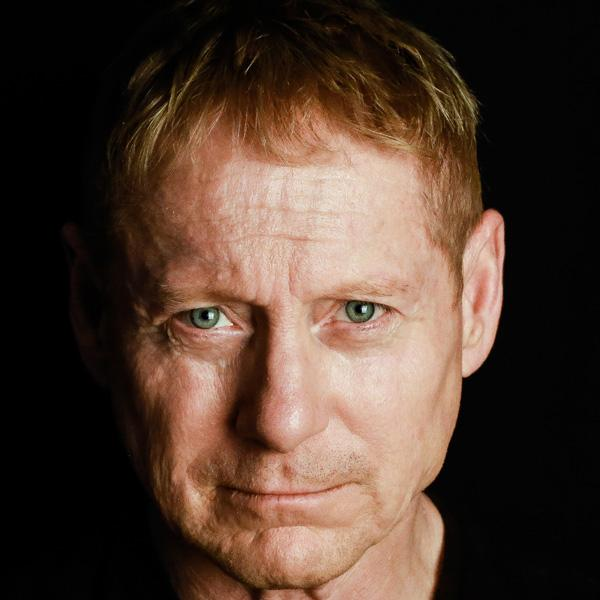Eyes: (311, 292, 412, 345), (158, 294, 252, 348)
